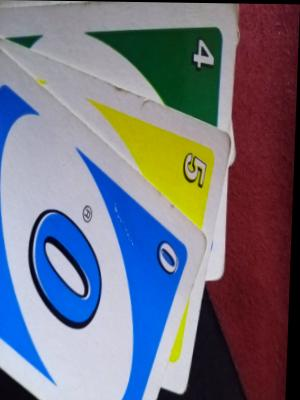blue: (0, 107, 132, 400)
green: (131, 24, 214, 111)
num_0: (154, 229, 183, 283)
num_4: (188, 30, 219, 75)
num_5: (178, 146, 210, 192)
